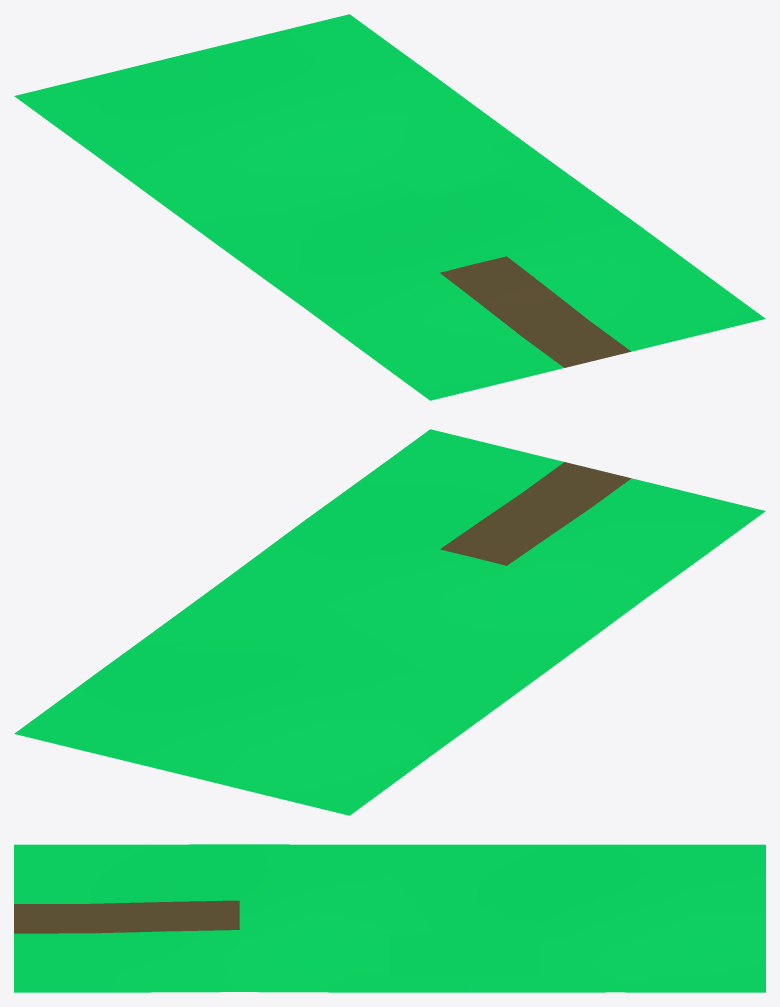
Rendered from ground_temp.fbx.
3 renders of one model, top to bottom at view 1: azimuth 30°, elevation 25°; view 2: azimuth 150°, elevation 25°; view 3: azimuth 270°, elevation 25°, orthographic. The views are drawn at different scales.
Parts seen in each view (by area): view 1: pPlane1; view 2: pPlane1; view 3: pPlane1.
Part boxes in pixels (<box>): pPlane1: <box>14,14,765,400</box>; pPlane1: <box>14,429,765,815</box>; pPlane1: <box>14,844,765,992</box>.
Bounding box in the file's own units: 487 × 5.71 × 1047.
